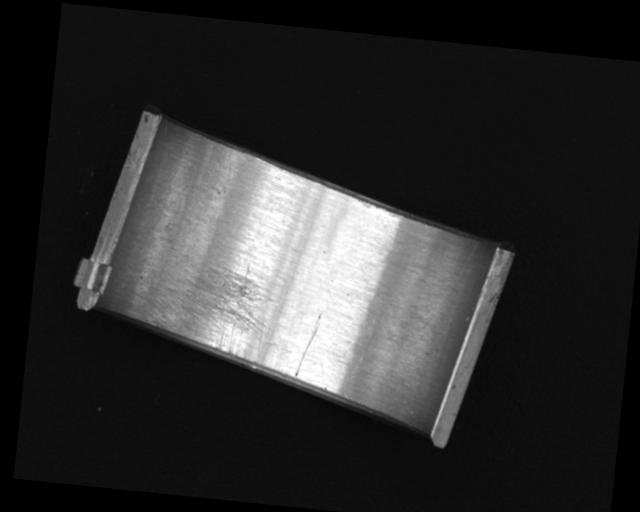nick: (421, 235, 477, 334), (294, 311, 323, 378)
scratch: (147, 256, 273, 365)
